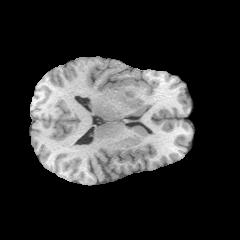glioma: (114, 77, 147, 103)
